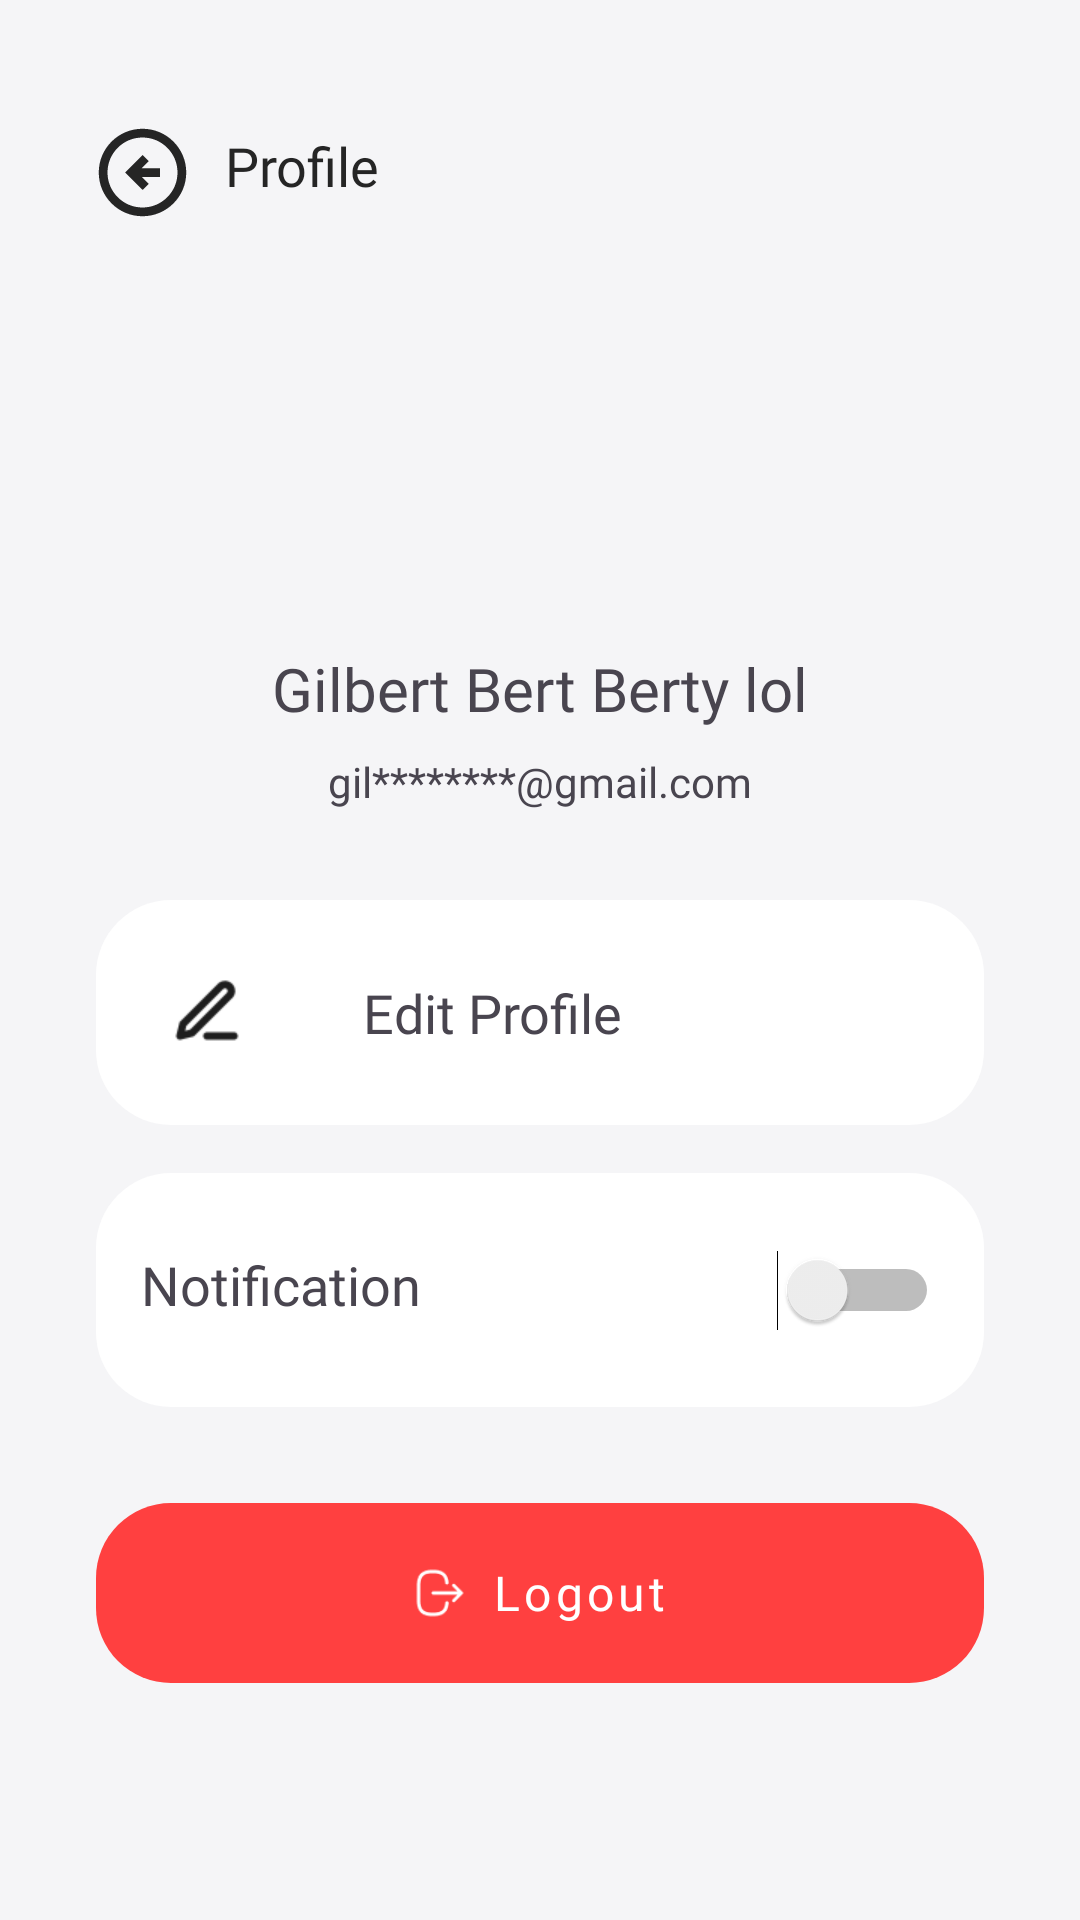

Point at icon controls on the screen. Image size 1080*1920, points as point (x, y).
arrow circle left: point (142, 172)
